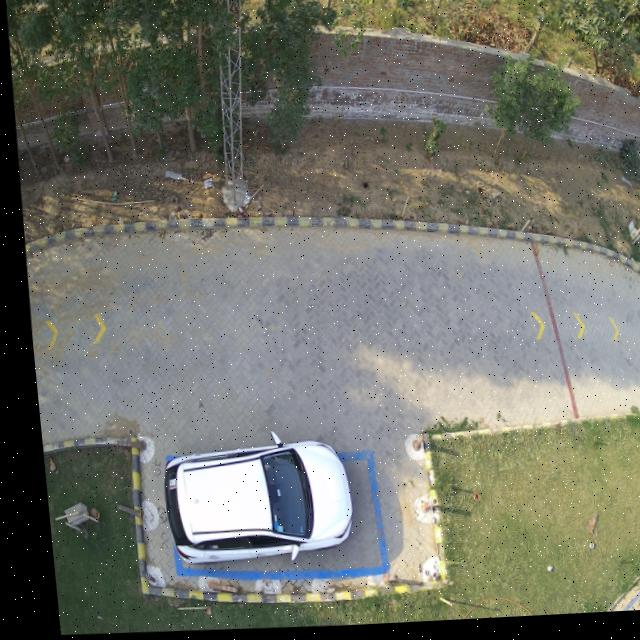car: (153, 432, 343, 566)
